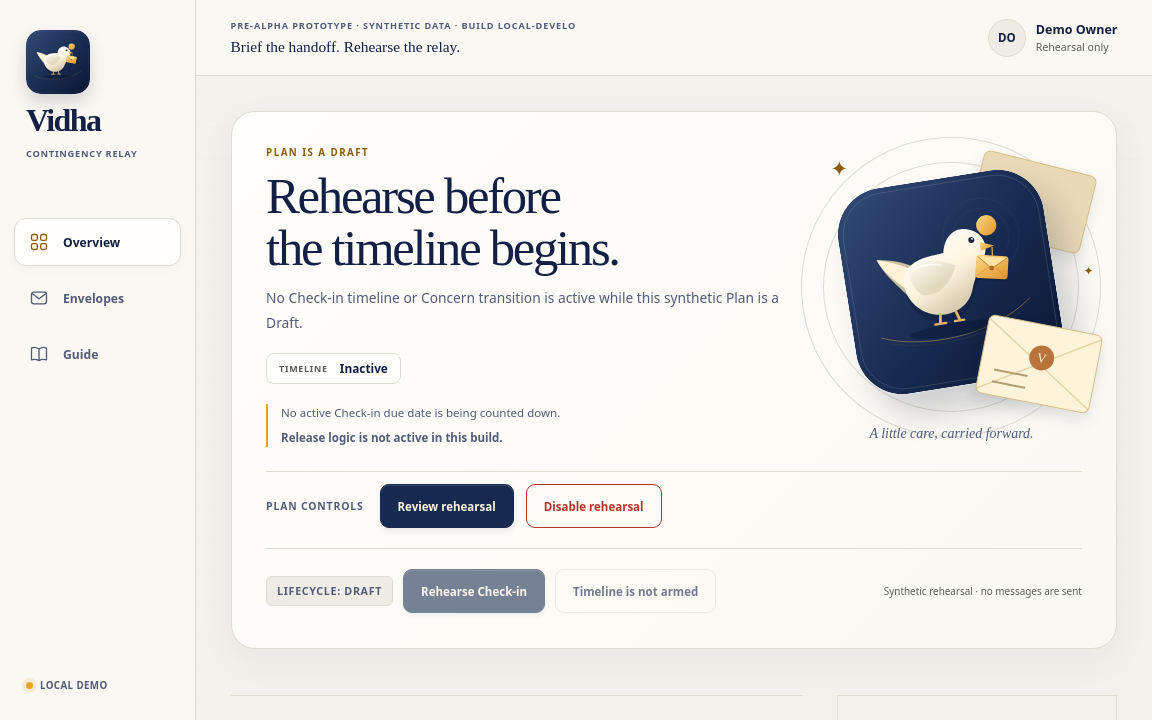
Vidha synthetic foundation app › reviews the complete local rehearsal before it can be marked complete
Click the button "Review rehearsal" at (447, 506), box [380, 484, 514, 528]
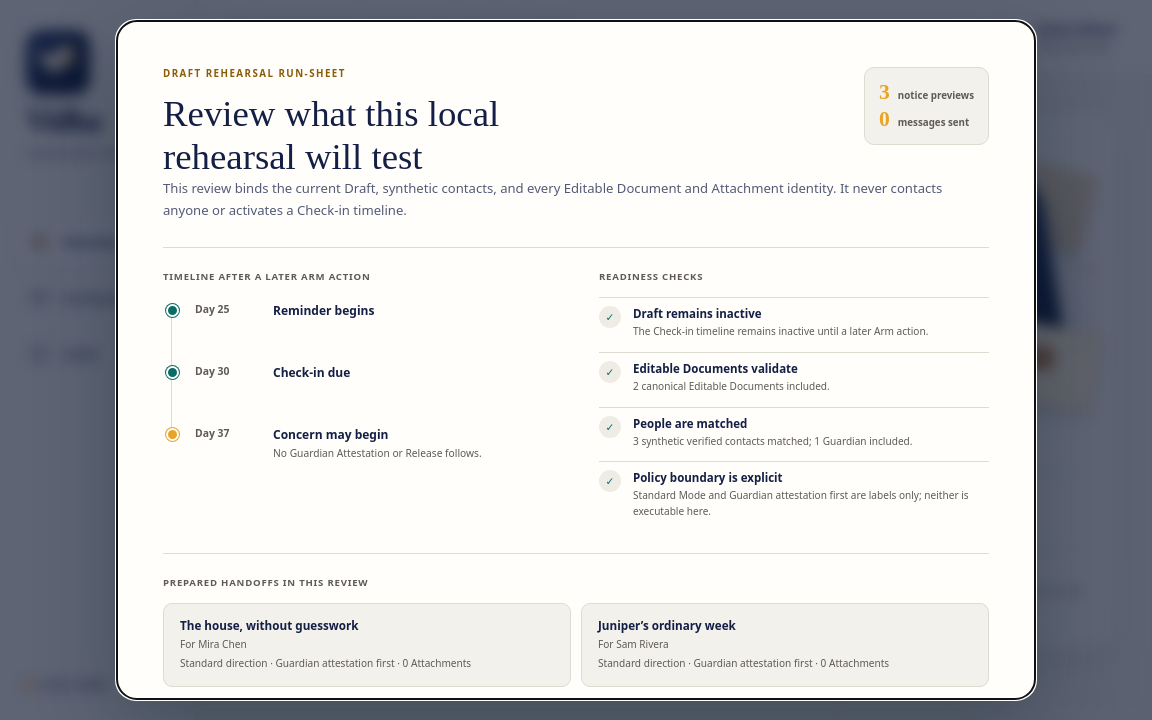
Check: the dialog "Review what this local rehearsal will test" shows "No Guardian Attestation or Release follows.", box [273, 446, 482, 460]
Press Tab
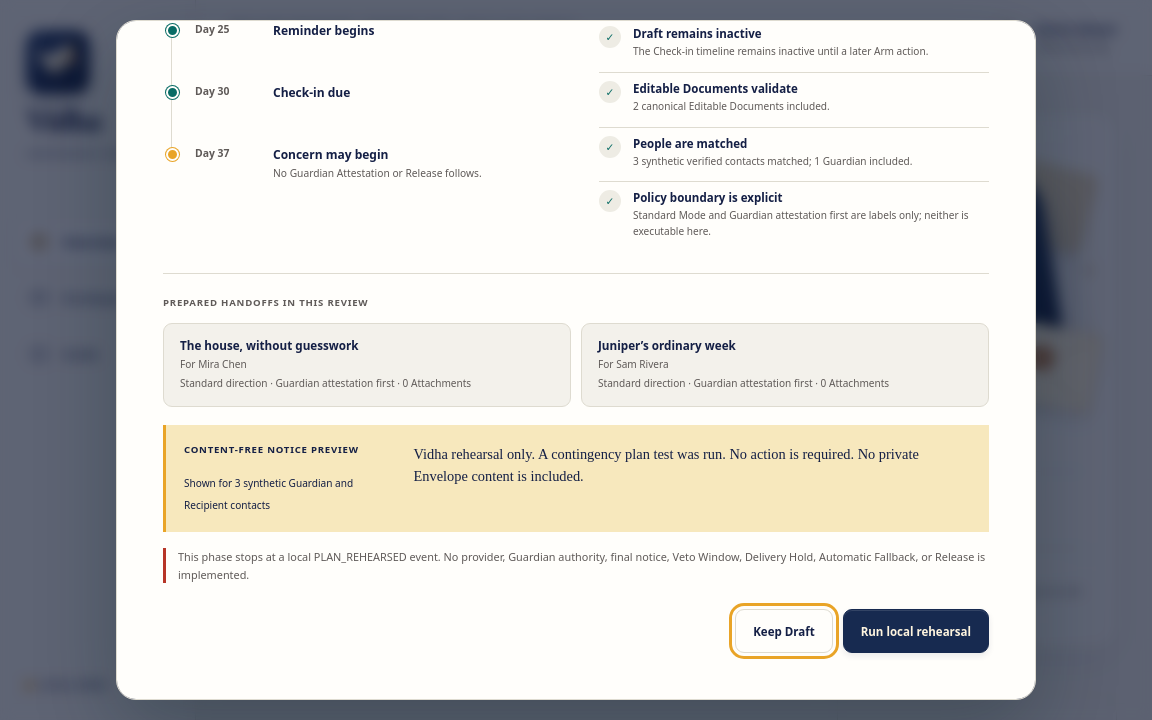
Click the button "Keep Draft" at (784, 632), box [735, 610, 833, 654]
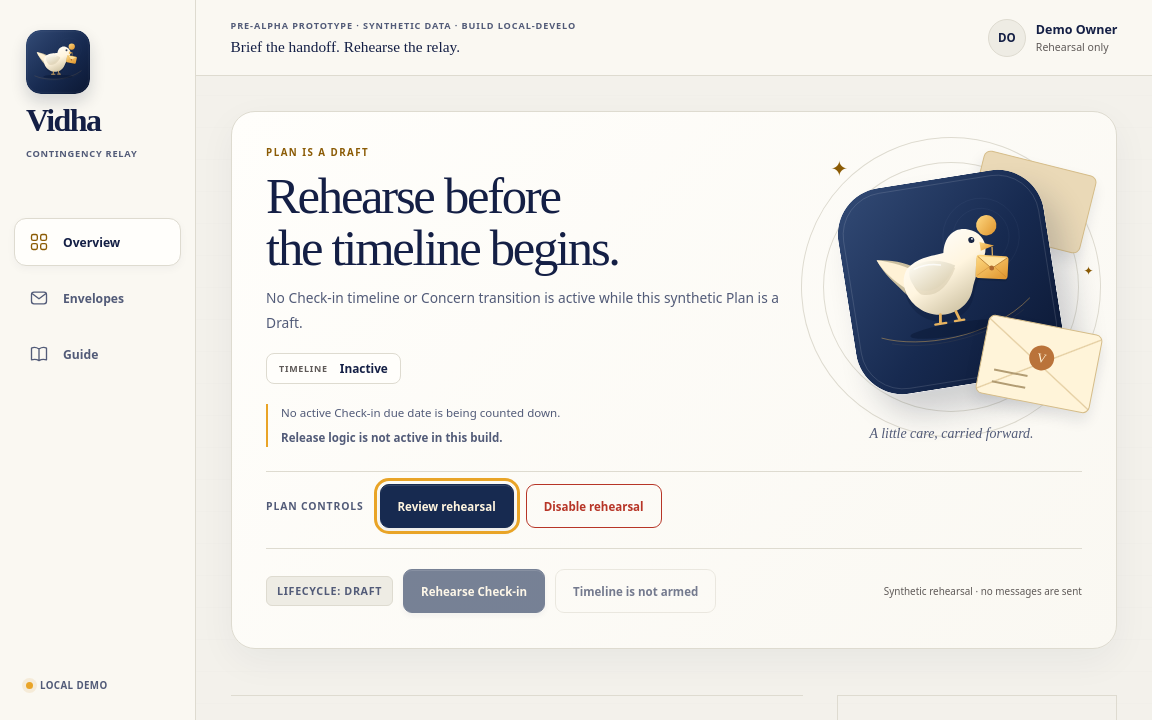
Check: the dialog is gone
Click the button "Review rehearsal" at (447, 506), box [380, 484, 514, 528]
(page scrolled)
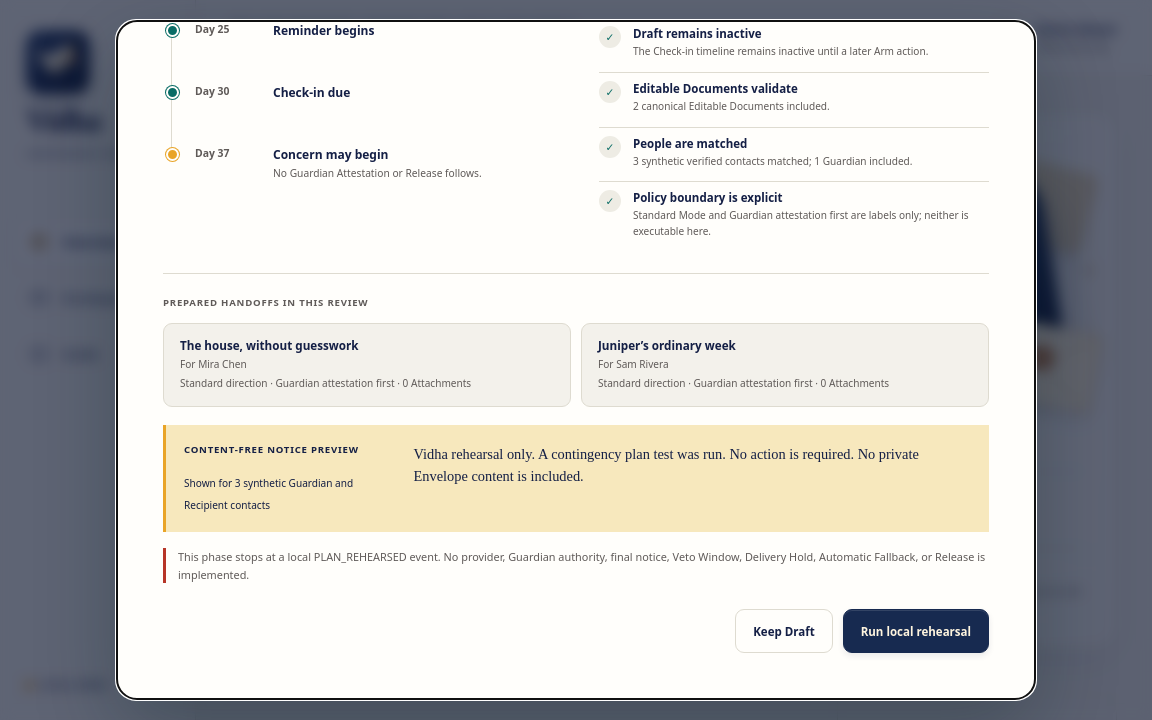
Click the button "Run local rehearsal" at (916, 632), box [843, 610, 989, 654]
(page scrolled)
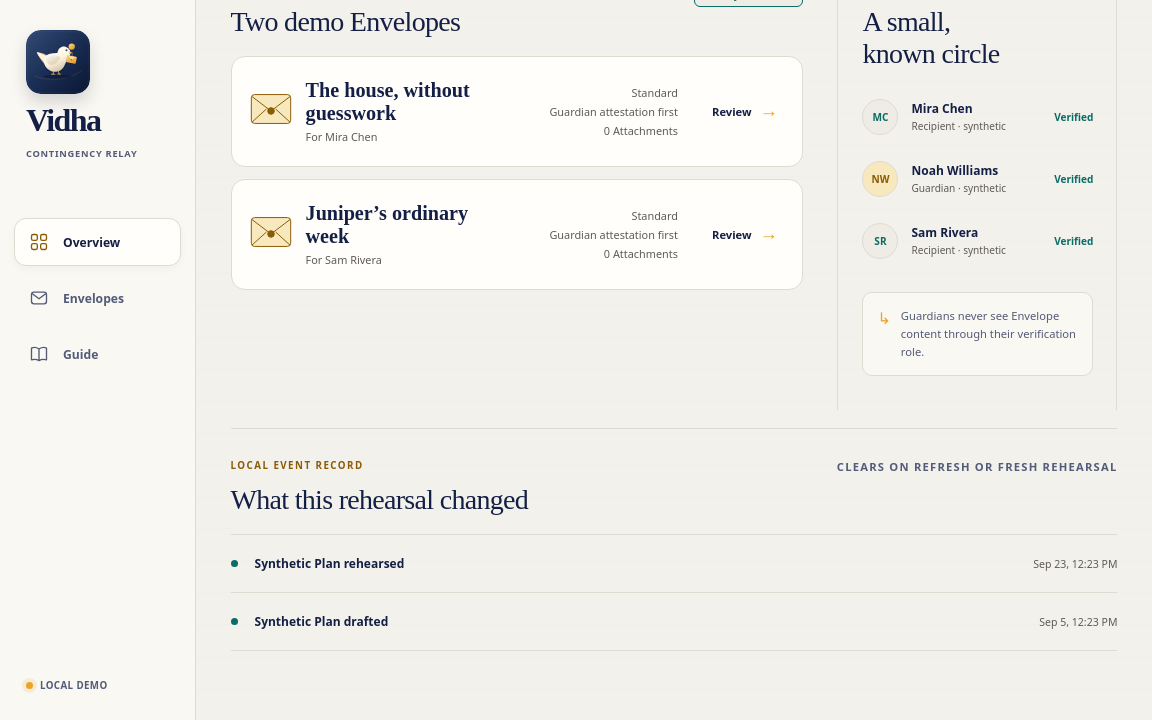
Check: the text "Synthetic Plan rehearsed" is shown, box [254, 555, 404, 572]
